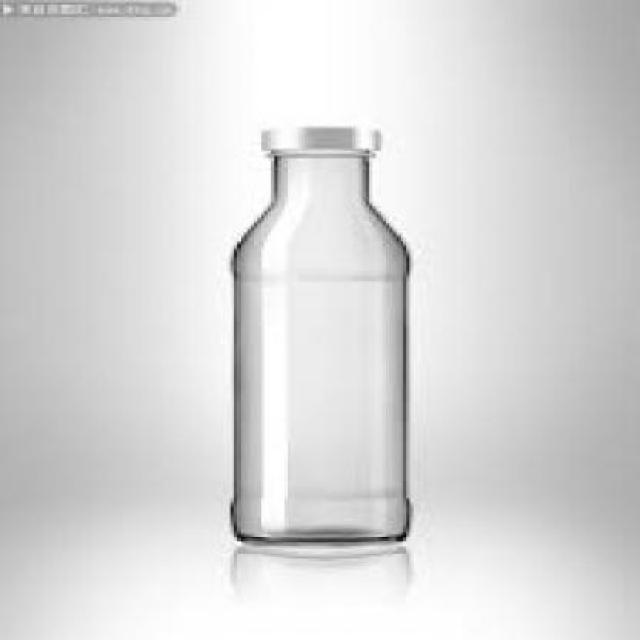kaca: (223, 149, 406, 542)
